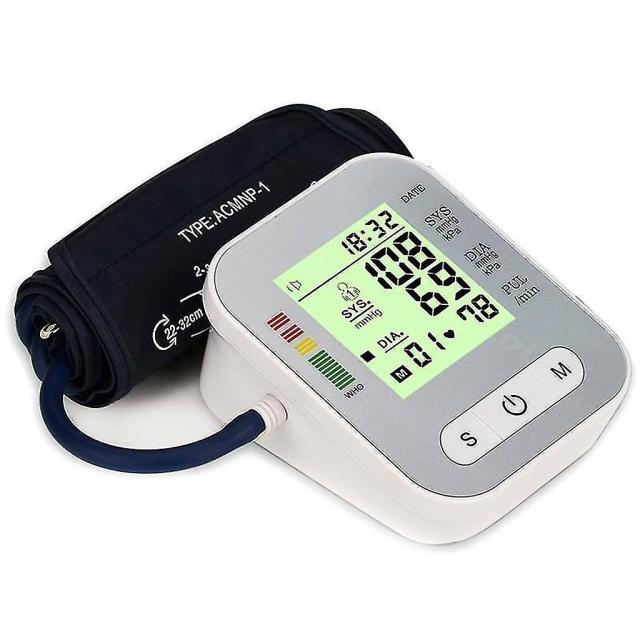dia: (399, 249, 477, 322)
pul: (453, 284, 502, 333)
ssd: (272, 182, 516, 419)
sys: (357, 218, 440, 296)
